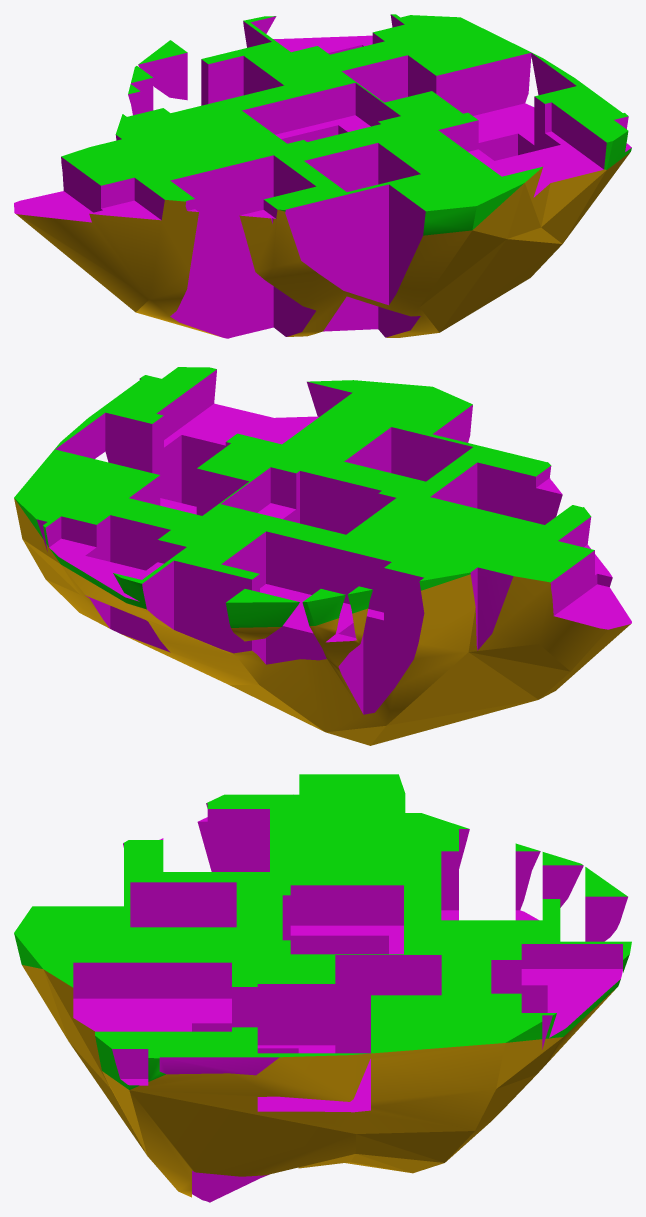
File: LandChunkA_Glitch.fbx
3 views of the same model, one above another, from view 1: azimuth 30°, elevation 25°; view 2: azimuth 150°, elevation 25°; view 3: azimuth 270°, elevation 25° (orthographic). The views are drawn at different scales.
Parts seen in each view (by area): view 1: LandChunkA_Glitch; view 2: LandChunkA_Glitch; view 3: LandChunkA_Glitch.
Part boxes in pixels (box(x1,y1,x2,y2)): LandChunkA_Glitch: box(14, 14, 631, 338); LandChunkA_Glitch: box(14, 367, 631, 745); LandChunkA_Glitch: box(14, 774, 631, 1202).
Bounding box in the file's own units: 50.67 × 17.67 × 41.33.
